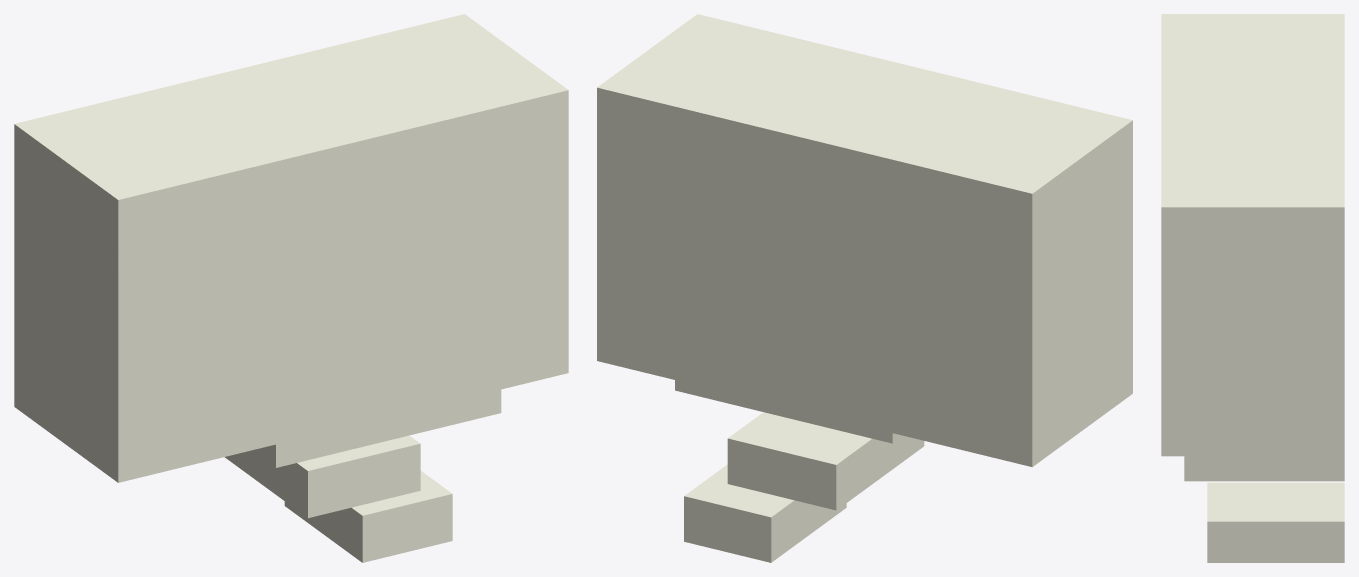
The model's file is icon_talk.obj.
The picture shows the model from 3 angles, left to right: view 1: azimuth 30°, elevation 25°; view 2: azimuth 150°, elevation 25°; view 3: azimuth 270°, elevation 25°; orthographic projection. The views are drawn at different scales.
Bounding box in the file's own units: 20 × 19 × 8.
1 material, 1 textured.
